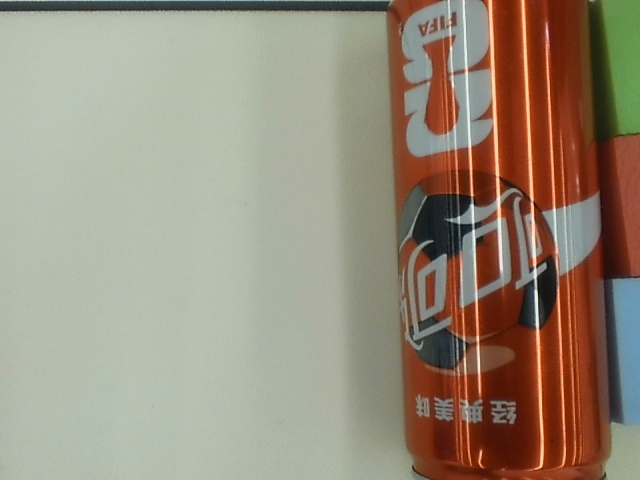bluecube: (601, 280, 640, 424)
cola: (384, 1, 615, 480)
greencube: (588, 1, 640, 134)
redcube: (593, 137, 640, 278)
